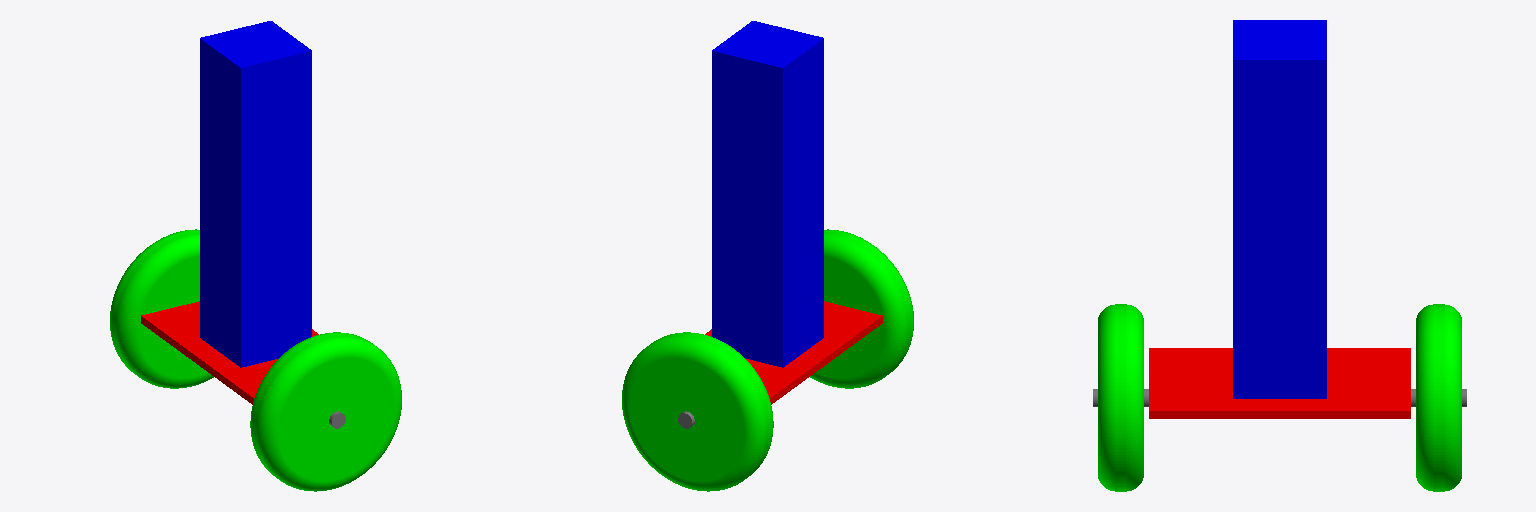
robot.urdf — wippy:
<?xml version="1.0"?>
<robot name="wippy">

    <material name="red">
        <color rgba="1 0 0 1"/>
    </material>
    <material name="green">
        <color rgba="0 1 0 1"/>
    </material>
    <material name="blue">
        <color rgba="0 0 1 1"/>
    </material>
    <material name="gray">
        <color rgba="0.5 0.5 0.5 1"/>
    </material>

    <link name="chassis">
        <visual>
            <origin rpy="0.0 0 0" xyz="0 0 0"/>
            <geometry>
                <mesh filename="package://urdfs/meshes/chassis.stl" scale="1 1 1"/>
            </geometry>
            <material name="red"/>
        </visual>
    </link>

    <link name="axle">
        <visual>
            <origin rpy="0.0 0 0" xyz="0 0 0"/>
            <geometry>
                <mesh filename="package://urdfs/meshes/axle.stl" scale="1 1 1"/>
            </geometry>
            <material name="gray"/>
        </visual>
    </link>

    <joint name="axle_joint" type="fixed">
        <parent link="chassis"/>
        <child link="axle"/>
        <origin rpy="0 0 0" xyz="0 0 0"/>
    </joint>

    <link name="wheel_left">
        <visual>
            <origin rpy="0.0 1.5708 0" xyz="0 0.085 0"/>
            <geometry>
                <mesh filename="package://urdfs/meshes/wheel.stl" scale="1 1 1"/>
            </geometry>
            <material name="green"/>
        </visual>
    </link>

    <joint name="wheel_left_joint" type="continuous">
        <parent link="axle"/>
        <child link="wheel_left"/>
        <origin rpy="0 0 0" xyz="0 0 0"/>
        <axis xyz="0 1 0"/>
    </joint>

    <link name="wheel_right">
        <visual>
            <origin rpy="0.0 1.5708 0" xyz="0 -0.085 0"/>
            <geometry>
                <mesh filename="package://urdfs/meshes/wheel.stl" scale="1 1 1"/>
            </geometry>
            <material name="green"/>
        </visual>
    </link>

    <joint name="wheel_right_joint" type="continuous">
        <parent link="axle"/>
        <child link="wheel_right"/>
        <origin rpy="0 0 0" xyz="0 0 0"/>
        <axis xyz="0 1 0"/>
    </joint>

    <link name="weight">
        <visual>
            <origin rpy="0.0 0 0" xyz="0 0 0.011"/>
            <geometry>
                <mesh filename="package://urdfs/meshes/weight.stl" scale="1 1 1"/>
            </geometry>
            <material name="blue"/>
        </visual>
    </link>

    <joint name="weight_joint" type="fixed">
        <parent link="axle"/>
        <child link="weight"/>
        <origin rpy="0 0 0" xyz="0 0 0"/>
    </joint>

    <gazebo reference="imu_link">
        <sensor type="imu" name="imu_sensor">
            <always_on>true</always_on>
            <update_rate>200</update_rate>
            <imu>
                <noise>
                    <type>gaussian</type>
                    <rate>
                        <mean>0.0</mean>
                        <stddev>0.01</stddev>
                    </rate>
                    <accel>
                        <mean>0.0</mean>
                        <stddev>0.01</stddev>
                    </accel>
                </noise>
            </imu>
            <plugin name="imu_plugin" filename="libgazebo_ros_imu.so">
                <robotNamespace>/imu</robotNamespace>
                <alwaysOn>true</alwaysOn>
                <updateRate>100</updateRate>
                <topicName>imu_data</topicName>
                <frameName>imu_link</frameName>
                <gaussianNoise>0.0</gaussianNoise>
            </plugin>
        </sensor>
    </gazebo>

</robot>

--- What the picture shows (computed from the rendered views, not written in the file) ---
The picture shows the robot from 3 angles, left to right: view 1: azimuth 30°, elevation 25°; view 2: azimuth 150°, elevation 25°; view 3: azimuth 270°, elevation 25°; orthographic projection.
Robot: wippy — 5 links, 4 joints (2 continuous, 2 fixed); root link chassis; default pose: all joints at 0.
Visible links, largest first — view 1: weight, wheel_right, wheel_left, chassis; view 2: weight, wheel_left, wheel_right, chassis; view 3: weight, chassis, wheel_left, wheel_right.
Link boxes in pixels (box(x1,y1,x2,y2)): weight: box(200, 21, 311, 367); wheel_right: box(250, 332, 401, 491); wheel_left: box(110, 229, 213, 388); chassis: box(141, 301, 318, 404); weight: box(712, 21, 823, 367); wheel_left: box(622, 332, 773, 491); wheel_right: box(810, 229, 913, 388); chassis: box(705, 301, 882, 404); weight: box(1233, 20, 1326, 398); chassis: box(1149, 348, 1410, 418); wheel_left: box(1416, 304, 1461, 491); wheel_right: box(1098, 304, 1143, 491).
Size in the robot's own frame: 0.1 by 0.2 by 0.261 metres.
5 mesh visuals loaded from 4 distinct referenced files (4 binary STL).